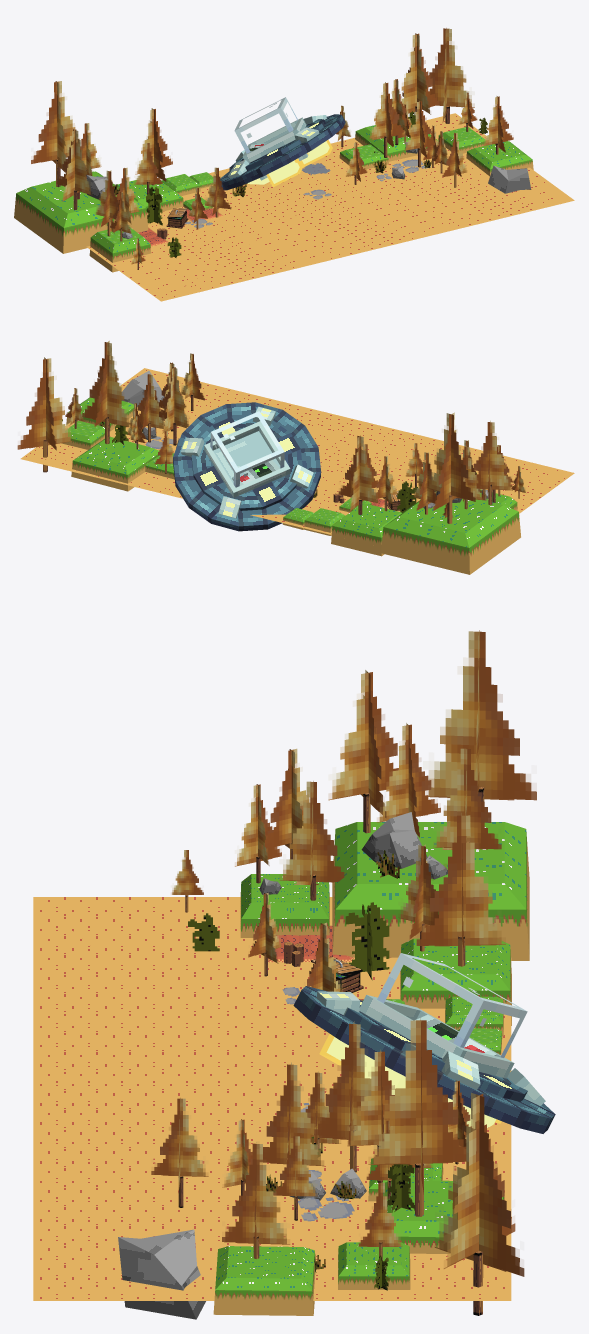
The model's file is Map_1.glb.
The picture shows the model from 3 angles, top to bottom: view 1: azimuth 30°, elevation 25°; view 2: azimuth 150°, elevation 25°; view 3: azimuth 270°, elevation 25°; orthographic projection. The views are drawn at different scales.
Visible parts, largest first — view 1: Ground_yellow, Map_1, Ground_green (10), Wood_yellow (21) (×2), Wood_yellow (23), Wood_yellow (18) (×2), Wood_yellow (8), Ground_green (12), Wood_yellow (15) (×2), Ground_green (4), Wood_yellow (1) (×2), Wood_yellow (9) (×2) (+14 smaller); view 2: Map_1, Ground_yellow, Ground_green (10), Ground_green (2), Wood_yellow (23), Wood_yellow (21), Ground_green (11), Wood_yellow (18) (×2), Wood_yellow (8), Wood_yellow (25), Wood_yellow (9), Wood_yellow (1) (+13 smaller); view 3: Ground_yellow, Map_1, Ground_green (10), Wood_yellow (21) (×2), Wood_yellow (23), Wood_yellow (8), Wood_yellow (18) (×2), Ground_green (4), Wood_yellow (15) (×2), Wood_yellow (25), Ground_green (11), Wood_yellow (9) (×2) (+20 smaller).
Boxes of the visible parts, bbox=[...] form: Ground_yellow: bbox=[86, 113, 574, 301]; Map_1: bbox=[220, 97, 345, 190]; Ground_green (10): bbox=[14, 171, 148, 253]; Wood_yellow (21) (×2): bbox=[31, 81, 367, 187]; Wood_yellow (23): bbox=[429, 28, 474, 123]; Wood_yellow (18) (×2): bbox=[56, 129, 467, 209]; Wood_yellow (8): bbox=[401, 33, 439, 115]; Ground_green (12): bbox=[89, 227, 150, 272]; Wood_yellow (15) (×2): bbox=[116, 101, 435, 224]; Ground_green (4): bbox=[466, 141, 533, 176]; Wood_yellow (1) (×2): bbox=[95, 79, 410, 236]; Wood_yellow (9) (×2): bbox=[110, 82, 404, 241]; Map_1: bbox=[173, 402, 321, 531]; Ground_yellow: bbox=[20, 368, 574, 534]; Ground_green (10): bbox=[381, 498, 520, 574]; Ground_green (2): bbox=[71, 436, 159, 491]; Wood_yellow (23): bbox=[17, 357, 72, 472]; Wood_yellow (21): bbox=[427, 412, 475, 523]; Ground_green (11): bbox=[331, 503, 401, 556]; Wood_yellow (18) (×2): bbox=[181, 353, 512, 505]; Wood_yellow (8): bbox=[82, 340, 131, 444]; Wood_yellow (25): bbox=[338, 435, 379, 514]; Wood_yellow (9): bbox=[159, 367, 189, 445]; Wood_yellow (1): bbox=[137, 373, 163, 442]; Ground_yellow: bbox=[33, 897, 511, 1300]; Map_1: bbox=[293, 953, 555, 1133]; Ground_green (10): bbox=[332, 822, 529, 960]; Wood_yellow (21) (×2): bbox=[305, 630, 536, 1151]; Wood_yellow (23): bbox=[434, 1092, 524, 1315]; Wood_yellow (8): bbox=[368, 1018, 466, 1216]; Wood_yellow (18) (×2): bbox=[151, 670, 398, 1207]; Ground_green (4): bbox=[213, 1246, 315, 1315]; Wood_yellow (15) (×2): bbox=[259, 781, 344, 1166]; Wood_yellow (25): bbox=[416, 813, 505, 966]; Ground_green (11): bbox=[400, 938, 511, 1025]; Wood_yellow (9) (×2): bbox=[235, 784, 371, 1172].
Bounding box in the file's own units: 21.38 × 7.04 × 10.93.
15 materials, 15 textured.
